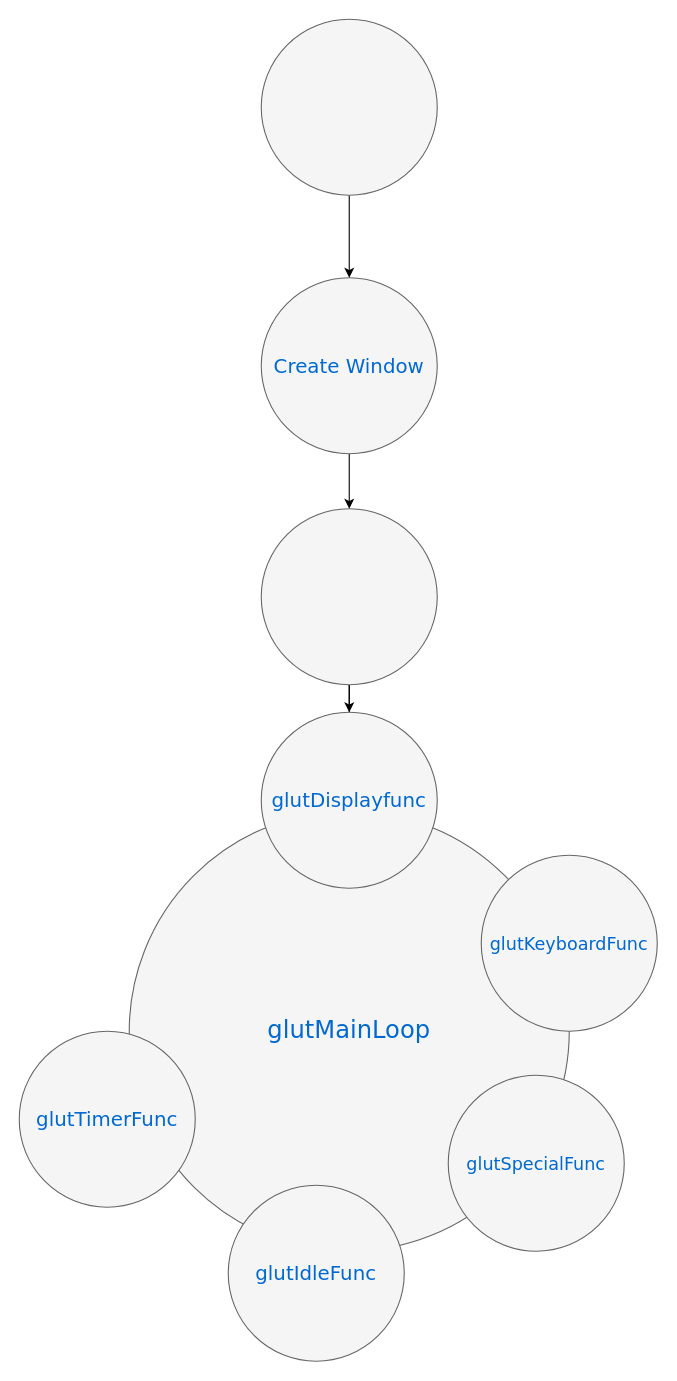
The diagram is 677 pixels wide and 1381 high, and some of its shapes have lost their labels. Here are the shapes that lost their labels. From the top down, the centre of each, then its label:
[348,106]: Load instructions()
[348,596]: Load Textures()
